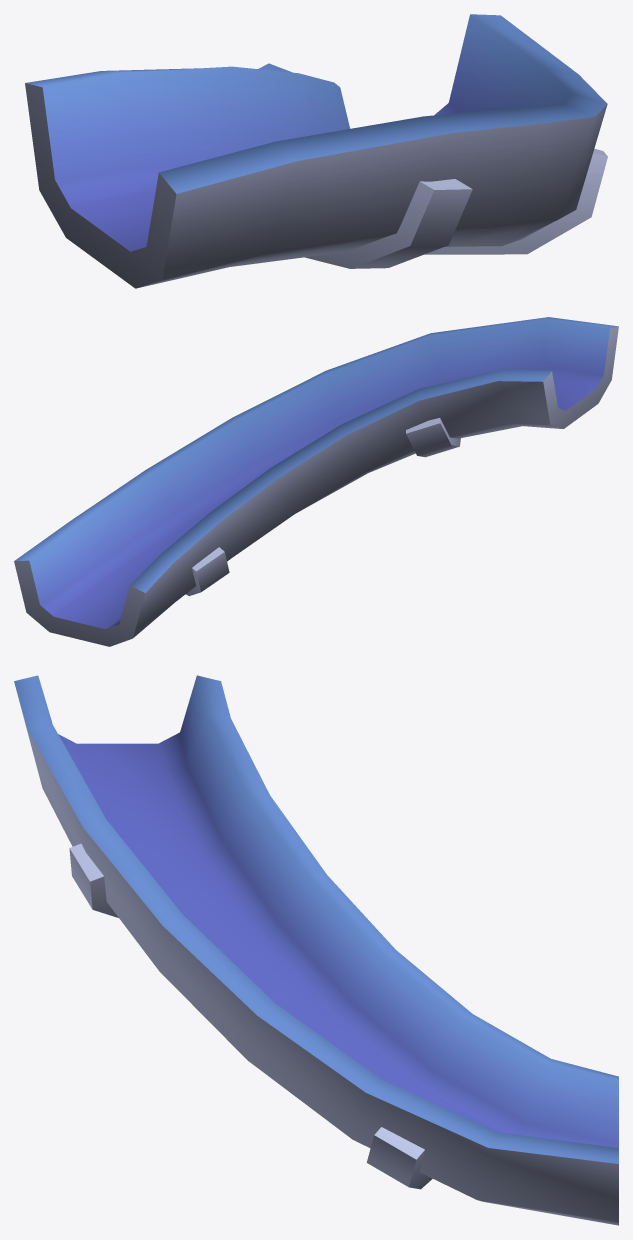
File: kenney-coaster-coaster-flume-corner-small-ramp.glb
3 views of the same model, one above another, from view 1: azimuth 30°, elevation 25°; view 2: azimuth 150°, elevation 25°; view 3: azimuth 270°, elevation 25° (orthographic). The views are drawn at different scales.
Parts seen in each view (by area): view 1: coaster-flume-corner-small-ramp; view 2: coaster-flume-corner-small-ramp; view 3: coaster-flume-corner-small-ramp.
Boxes of the visible parts, box(x1,y1,x2,y2) form: coaster-flume-corner-small-ramp: box(25, 14, 607, 288); coaster-flume-corner-small-ramp: box(14, 317, 618, 646); coaster-flume-corner-small-ramp: box(14, 675, 618, 1225).
Bounding box in the file's own units: 2.41 × 1.4 × 2.41.
Materials: 1 (1 with a texture image).
